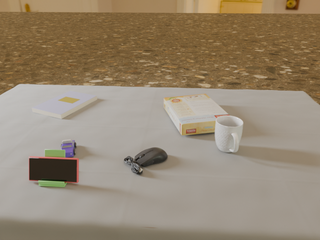book: (32, 91, 97, 119)
box: (164, 94, 229, 135)
cup: (215, 115, 243, 152)
mouse: (124, 147, 167, 174)
phone: (29, 156, 79, 183)
toy_car: (61, 139, 76, 157)
